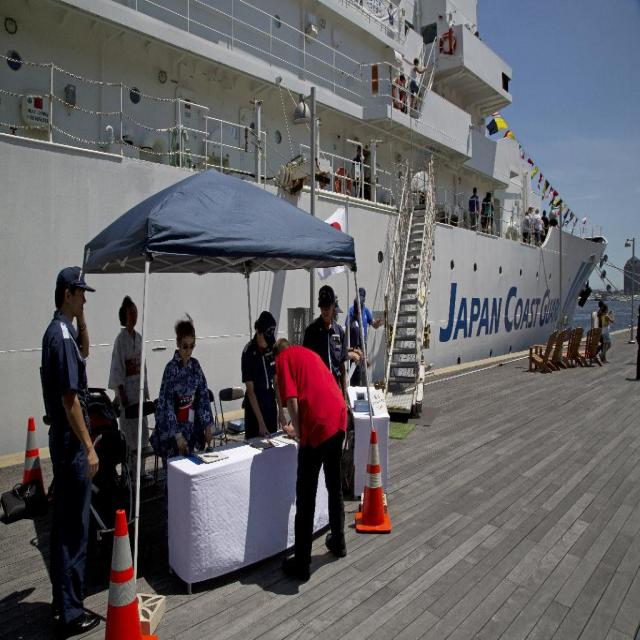chair: (218, 385, 246, 439)
desk: (154, 430, 334, 607)
person: (40, 265, 100, 634), (273, 336, 350, 581), (154, 316, 216, 459), (302, 284, 353, 394), (106, 295, 150, 412), (240, 310, 280, 438), (346, 286, 380, 385), (597, 297, 614, 362), (468, 186, 481, 230)
